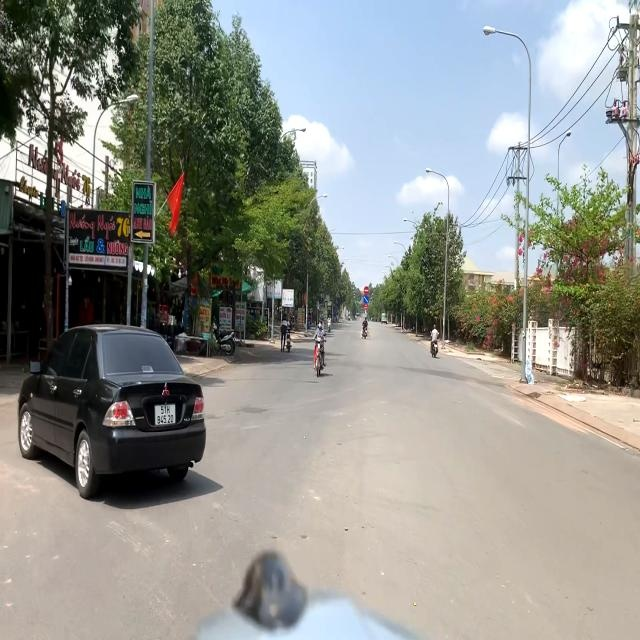bien_cam: (364, 286, 369, 295), (364, 296, 368, 304)
